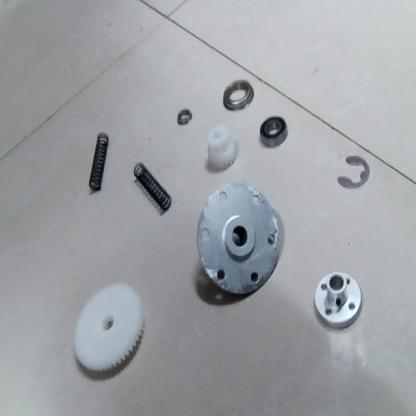FOD: (194, 182, 285, 297), (67, 279, 152, 381), (310, 264, 370, 331), (133, 158, 173, 216), (84, 129, 116, 199), (202, 122, 241, 174), (337, 154, 371, 190), (222, 78, 255, 113), (258, 116, 284, 148), (174, 108, 194, 128)
